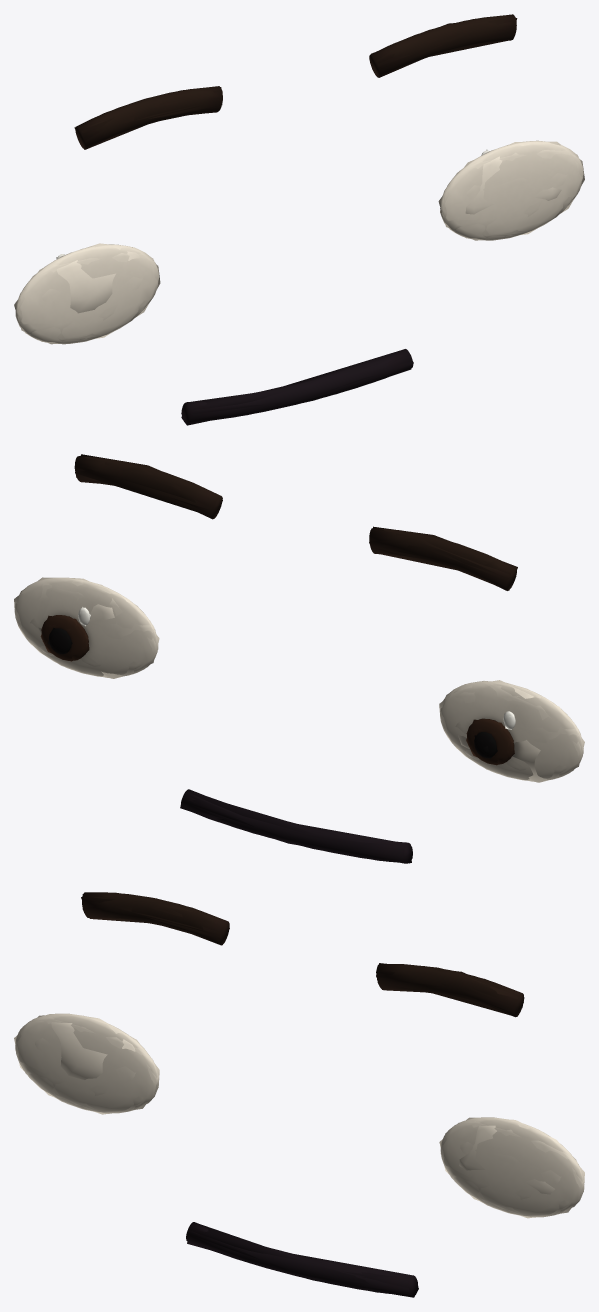
The model's file is embarrassed.glb.
3 views of the same model, one above another, from view 1: azimuth 30°, elevation 25°; view 2: azimuth 150°, elevation 25°; view 3: azimuth 330°, elevation 25° (orthographic).
Parts seen in each view (by area): view 1: near, mid, far; view 2: near, mid, far; view 3: near, mid, far.
Boxes of the visible parts, box(x1,y1,x2,y2) form: near: box(15, 15, 583, 422); mid: box(15, 14, 583, 422); far: box(14, 18, 584, 425); near: box(14, 456, 583, 863); mid: box(14, 456, 583, 863); far: box(14, 454, 584, 863); near: box(15, 892, 583, 1295); mid: box(15, 892, 584, 1295); far: box(14, 896, 584, 1297).
Bounding box in the file's own units: 0.8727 × 0.5 × 0.0577.
Materials: 6 (6 with a texture image).
